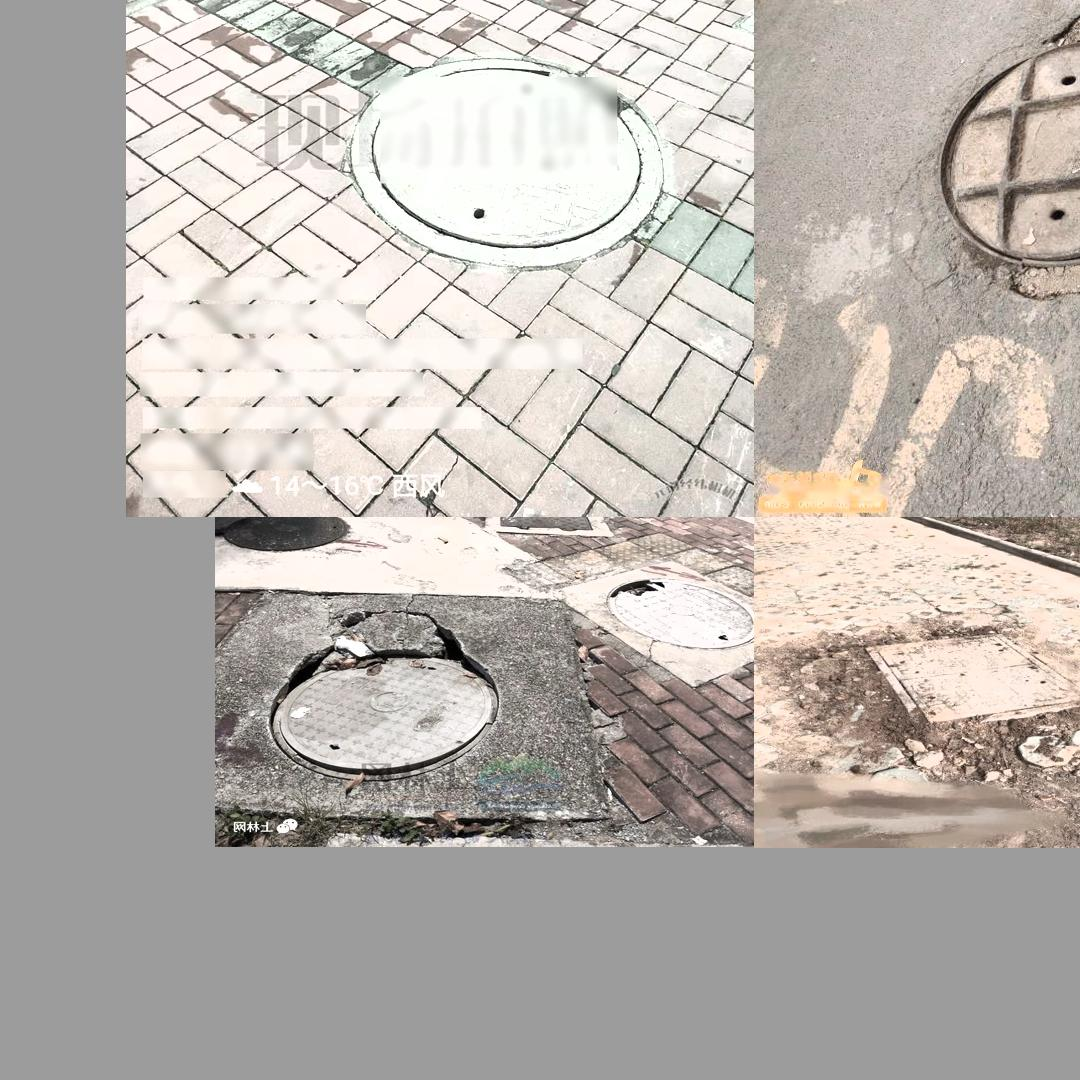circle: (217, 583, 617, 821), (344, 57, 668, 274), (894, 0, 1080, 319), (845, 631, 1080, 739)
